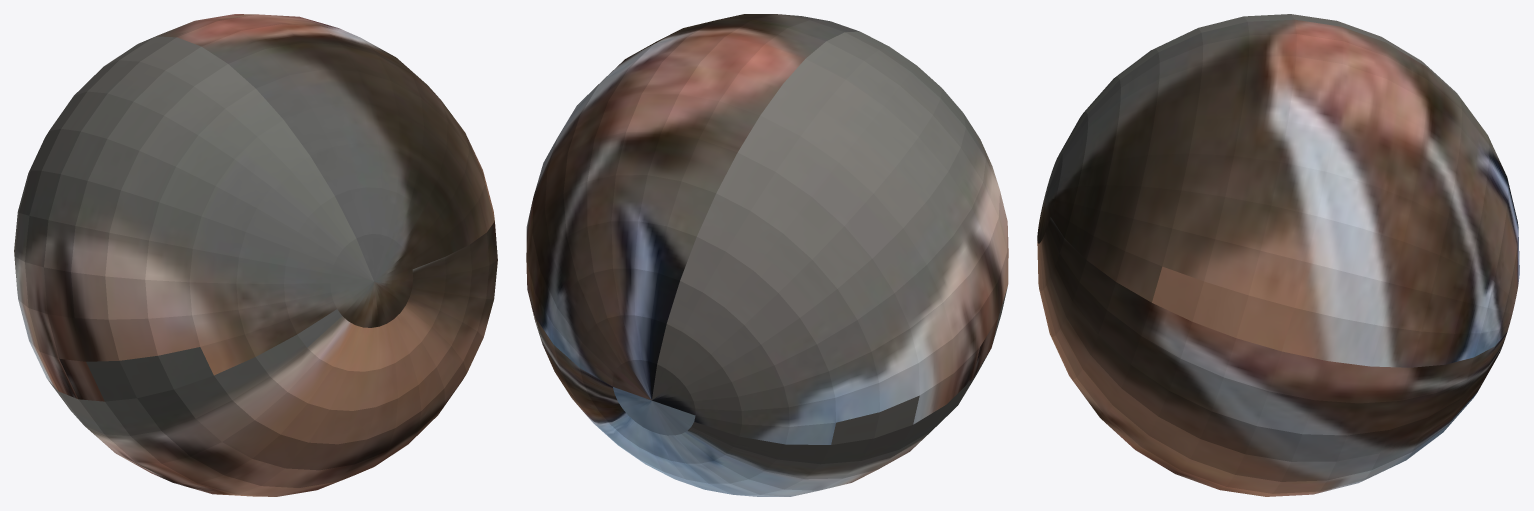
The model's file is Ball.obj.
3 renders of one model, left to right at view 1: azimuth 30°, elevation 25°; view 2: azimuth 150°, elevation 25°; view 3: azimuth 270°, elevation 25°, orthographic.
Parts seen in each view (by area): view 1: Ball_Sphere; view 2: Ball_Sphere; view 3: Ball_Sphere.
Boxes of the visible parts, box(x1,y1,x2,y2) form: Ball_Sphere: box(14, 14, 497, 496); Ball_Sphere: box(526, 14, 1008, 496); Ball_Sphere: box(1037, 14, 1519, 496).
Size of the model in its own units: 2 by 1.99 by 1.99.
Materials: 1 (1 with a texture image).
